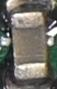Capacitor: (10, 13, 48, 79)
